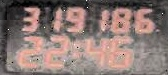1: (98, 9, 107, 32), (53, 6, 61, 29)
2: (16, 36, 41, 66), (43, 36, 66, 66)
3: (20, 6, 39, 30)
4: (84, 38, 106, 65)
6: (107, 37, 128, 67), (134, 9, 152, 32)
8: (110, 8, 129, 31)
9: (65, 7, 84, 31)
X: (71, 41, 79, 56)
